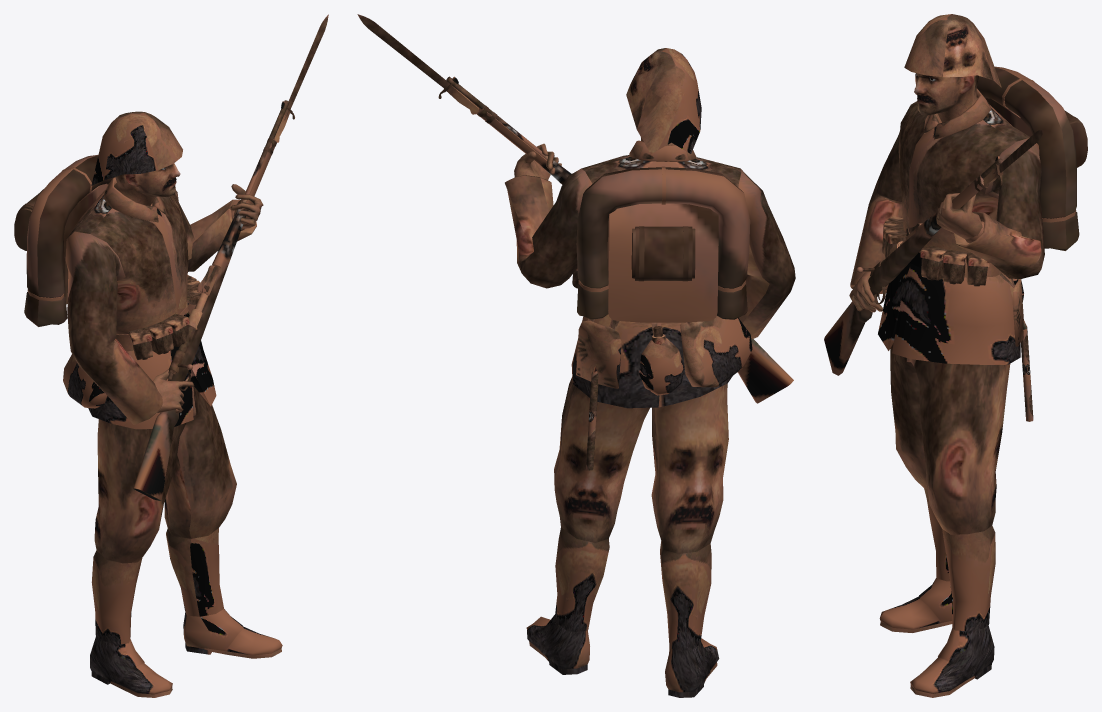
The model's file is asset.glb.
The picture shows the model from 3 angles, left to right: view 1: azimuth 30°, elevation 25°; view 2: azimuth 150°, elevation 25°; view 3: azimuth 270°, elevation 25°; orthographic projection. The views are drawn at different scales.
Parts seen in each view (by area): view 1: model_1.001, model_2.001, model_7.001, model_6.001, model_5.001, model_4.001, model_0.001; view 2: model_1.001, model_7.001, model_2.001, model_5.001, model_3.001, model_6.001, model_4.001, model_0.001; view 3: model_2.001, model_1.001, model_7.001, model_6.001, model_0.001, model_5.001, model_4.001, model_3.001.
Boxes of the visible parts, x1=… form: model_1.001: x1=90, y1=386, x2=282, y2=697; model_2.001: x1=65, y1=177, x2=256, y2=429; model_7.001: x1=14, y1=154, x2=114, y2=326; model_6.001: x1=133, y1=14, x2=328, y2=500; model_5.001: x1=91, y1=111, x2=182, y2=185; model_4.001: x1=63, y1=275, x2=200, y2=408; model_0.001: x1=114, y1=163, x2=263, y2=413; model_1.001: x1=526, y1=377, x2=728, y2=697; model_7.001: x1=576, y1=166, x2=750, y2=322; model_2.001: x1=505, y1=140, x2=795, y2=408; model_5.001: x1=626, y1=48, x2=701, y2=153; model_3.001: x1=576, y1=318, x2=684, y2=470; model_6.001: x1=357, y1=14, x2=793, y2=403; model_4.001: x1=572, y1=268, x2=752, y2=387; model_0.001: x1=514, y1=137, x2=674, y2=180; model_2.001: x1=850, y1=88, x2=1044, y2=364; model_1.001: x1=879, y1=343, x2=1010, y2=697; model_7.001: x1=977, y1=66, x2=1087, y2=250; model_6.001: x1=824, y1=130, x2=1043, y2=375; model_0.001: x1=849, y1=73, x2=982, y2=312; model_5.001: x1=904, y1=14, x2=1001, y2=87; model_4.001: x1=882, y1=216, x2=989, y2=286; model_3.001: x1=999, y1=273, x2=1033, y2=421.
Size of the model in its own units: 1.83 by 3.08 by 1.18.
Materials: 8 (8 with a texture image).
